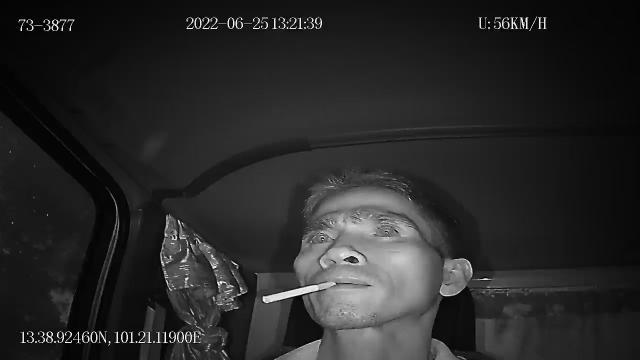SafeDriving: (300, 224, 337, 250)
Smoking: (260, 281, 336, 305)
